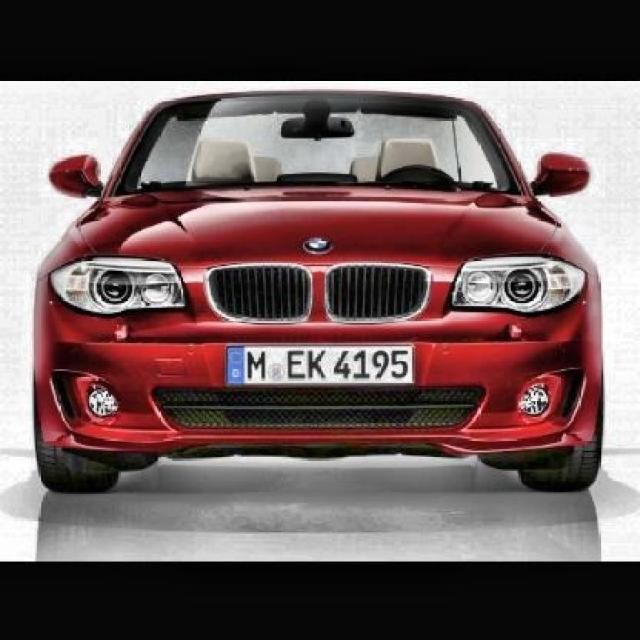red: (31, 91, 640, 490)
